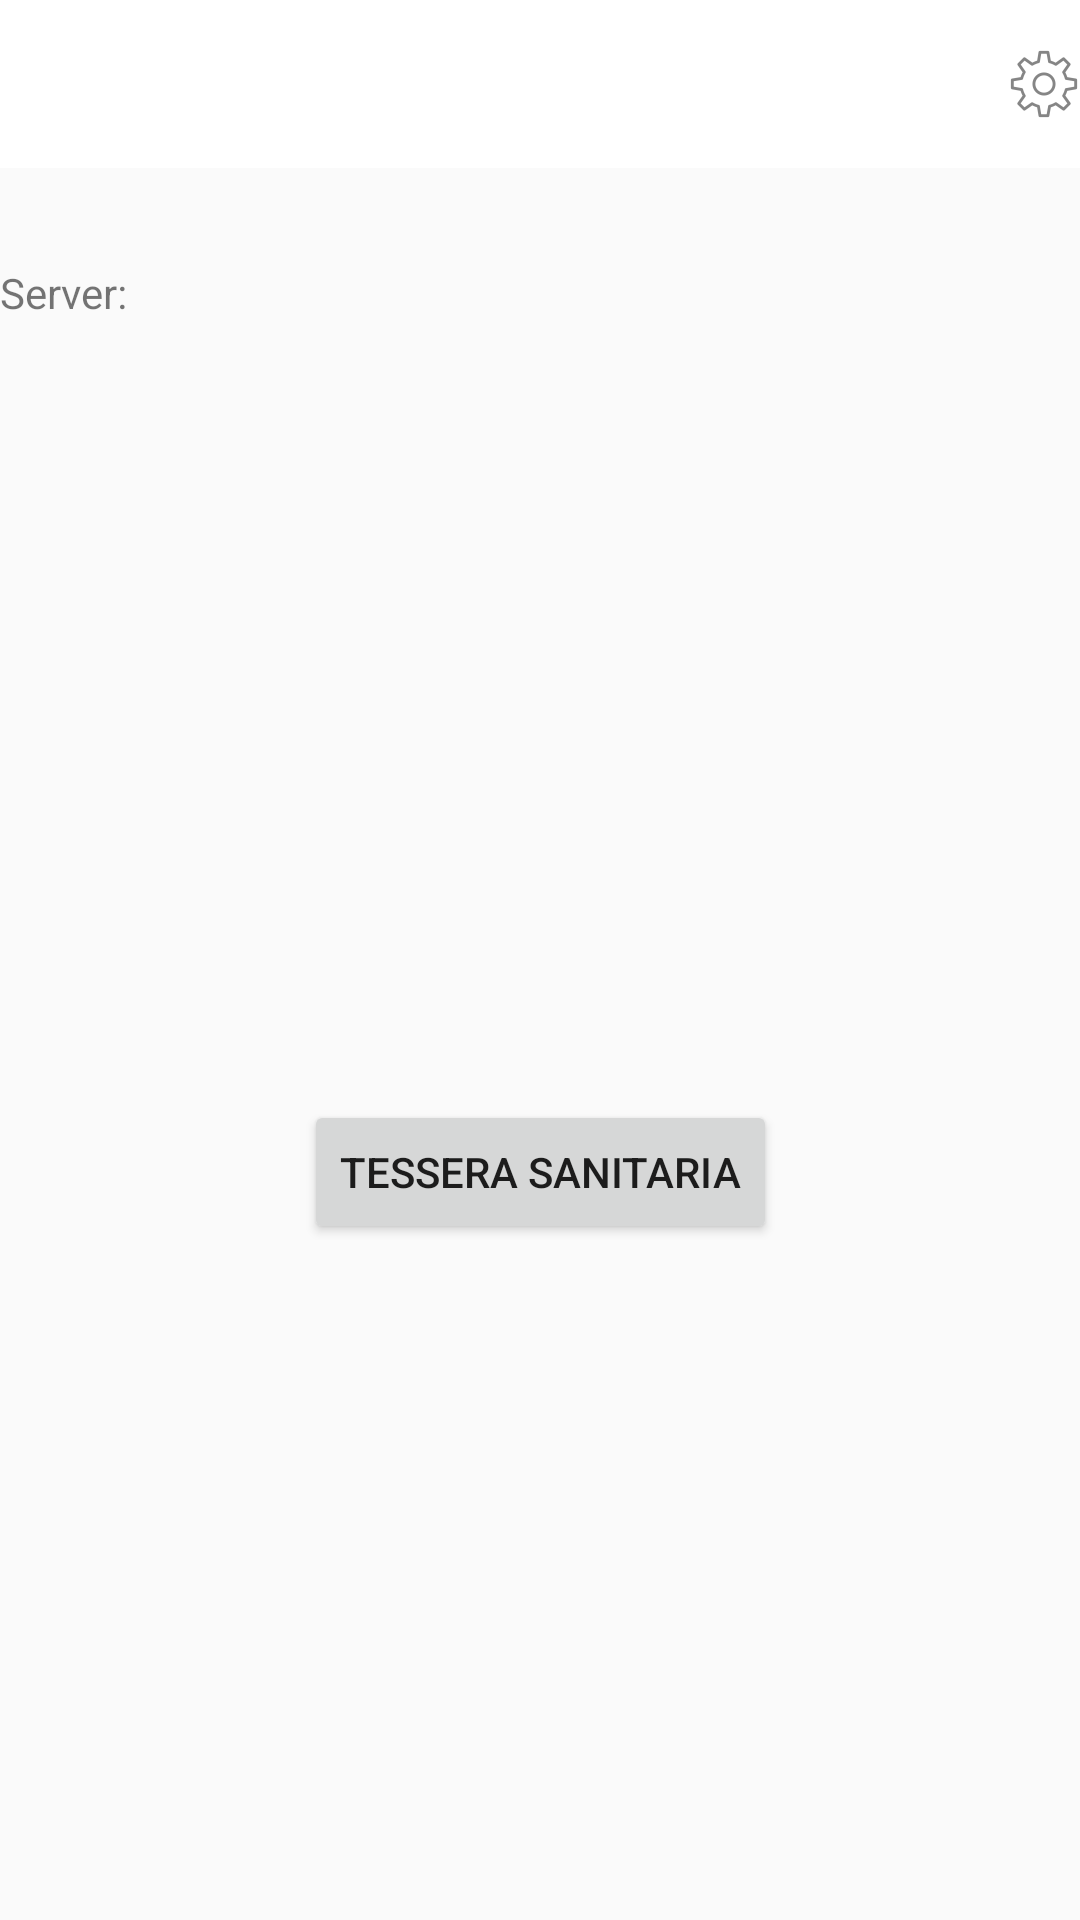

Icon bounding boxes for this 1080px×1920px phone screenshot, format bbox=(x1, y1, x2, y2):
settings: bbox=(1011, 51, 1077, 117)
